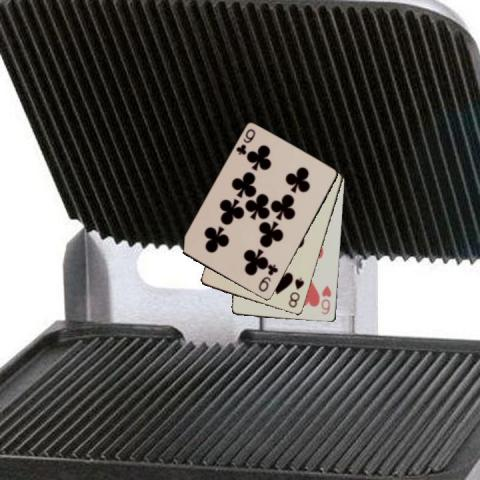6h: (318, 283, 332, 316)
8s: (286, 275, 306, 309)
9c: (255, 262, 280, 294), (233, 126, 257, 157)
